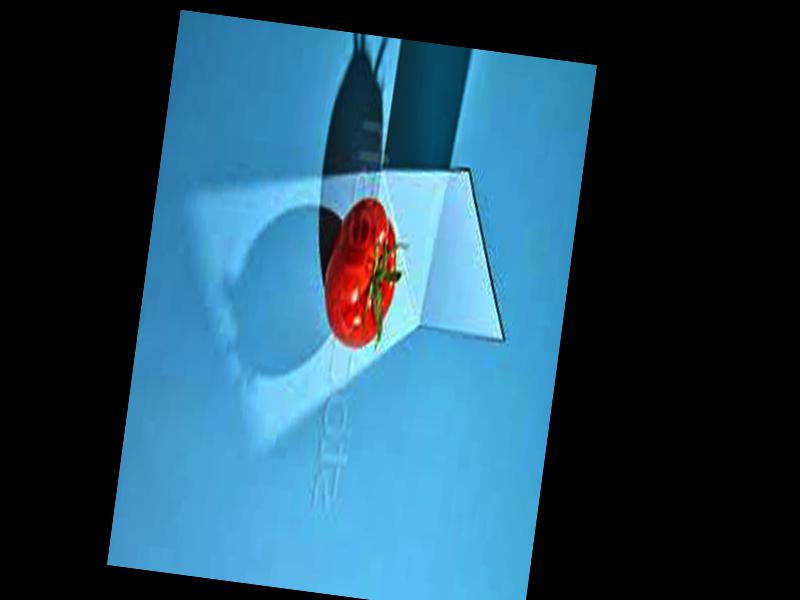Tomato: (316, 193, 405, 351)
